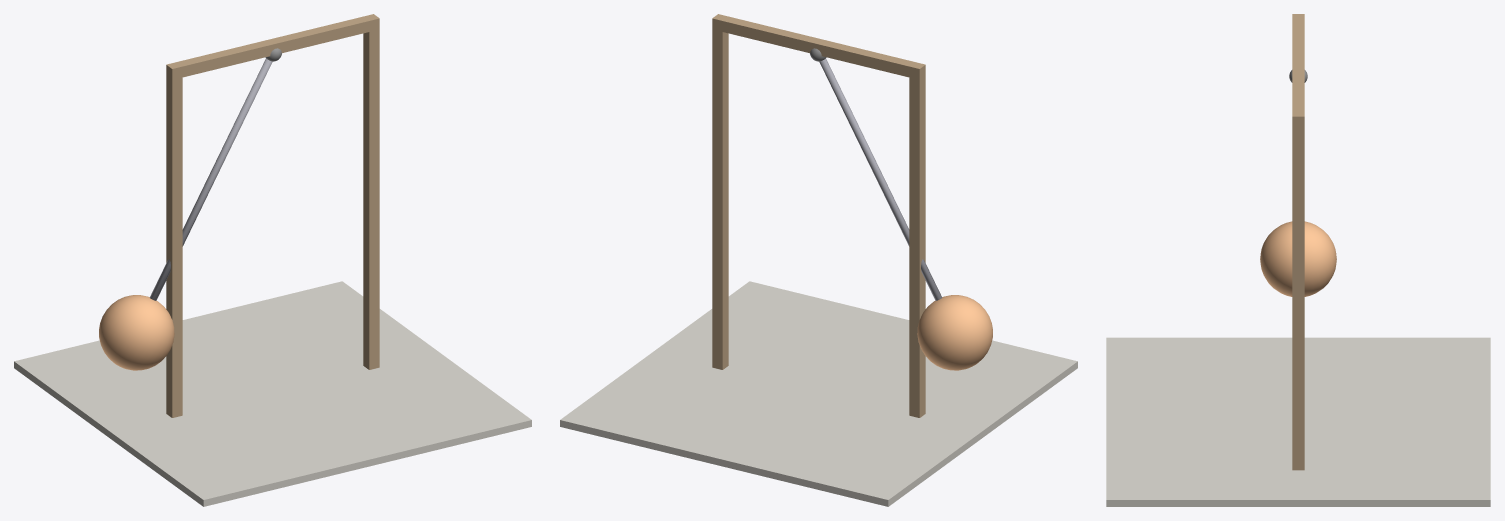
File: pendulum.glb
The picture shows the model from 3 angles, left to right: view 1: azimuth 30°, elevation 25°; view 2: azimuth 150°, elevation 25°; view 3: azimuth 270°, elevation 25°; orthographic projection.
Visible parts, largest first — view 1: Floor, Stand_RightLeg, Stand_LeftLeg, Pendulum_Bob, Stand_TopBar, Pendulum_Rod; view 2: Floor, Stand_RightLeg, Stand_LeftLeg, Pendulum_Bob, Stand_TopBar, Pendulum_Rod; view 3: Floor, Stand_RightLeg, Pendulum_Bob, Stand_TopBar.
Part boxes in pixels (x1,y1,x2,y2): Floor: [14, 281, 531, 506]; Stand_RightLeg: [363, 29, 379, 369]; Stand_LeftLeg: [166, 71, 182, 417]; Pendulum_Bob: [99, 295, 174, 370]; Stand_TopBar: [166, 14, 379, 79]; Pendulum_Rod: [149, 58, 272, 300]; Floor: [560, 281, 1077, 506]; Stand_RightLeg: [712, 24, 728, 369]; Stand_LeftLeg: [909, 72, 925, 417]; Pendulum_Bob: [917, 295, 992, 370]; Stand_TopBar: [712, 14, 925, 79]; Pendulum_Rod: [819, 58, 942, 300]; Floor: [1106, 337, 1490, 506]; Stand_RightLeg: [1292, 122, 1304, 470]; Pendulum_Bob: [1260, 221, 1336, 296]; Stand_TopBar: [1292, 14, 1304, 127].
Size of the model in its own units: 2.54 by 2.59 by 2.5.
